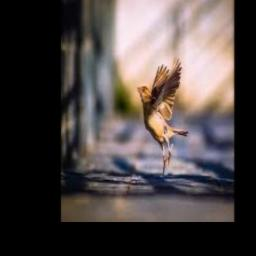Sparrow: (137, 56, 188, 177)
